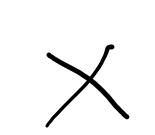mult: (46, 44, 131, 128)
